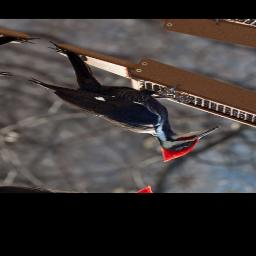Woodpecker: (0, 40, 245, 170)
